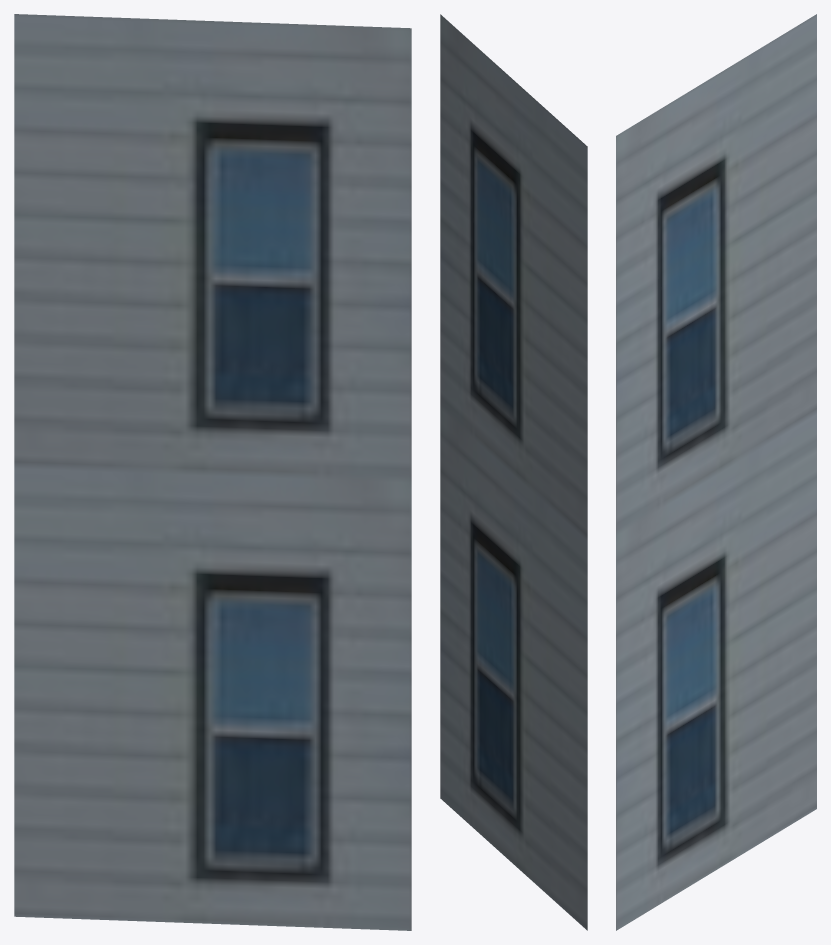
File: ResTex__3946.fbx
3 renders of one model, left to right at view 1: azimuth 30°, elevation 25°; view 2: azimuth 150°, elevation 25°; view 3: azimuth 270°, elevation 25°, orthographic. The views are drawn at different scales.
Visible parts, largest first — view 1: CityEngineMaterial_18_m; view 2: CityEngineMaterial_18_m; view 3: CityEngineMaterial_18_m.
Part boxes in pixels (box(x1,y1,x2,y2)): CityEngineMaterial_18_m: box(14, 14, 411, 930); CityEngineMaterial_18_m: box(440, 14, 587, 930); CityEngineMaterial_18_m: box(616, 14, 816, 930).
Bounding box in the file's own units: 1.97 × 6 × 1.37.
1 material, 1 textured.
